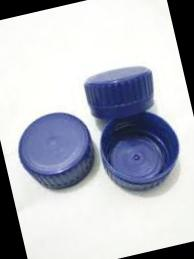Plastik: (99, 112, 180, 191), (17, 110, 95, 190), (83, 64, 154, 121)
